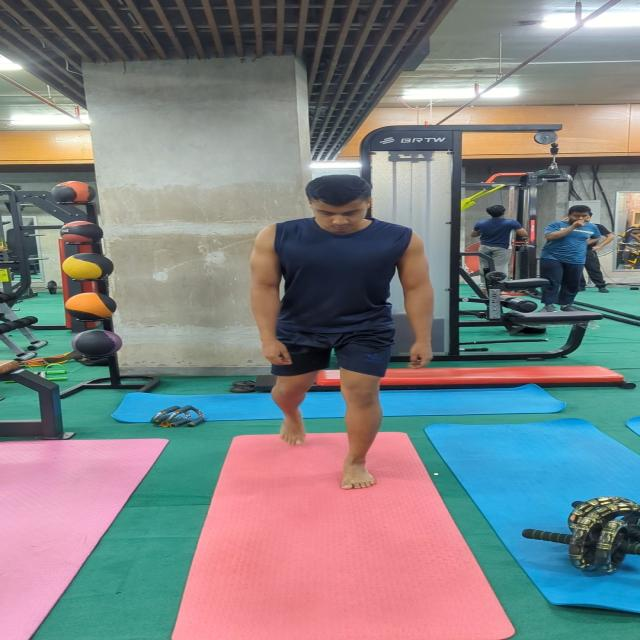Normal_Lunges: (247, 171, 435, 495)
